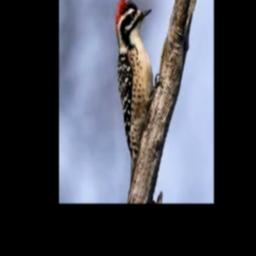Woodpecker: (114, 0, 162, 182)
